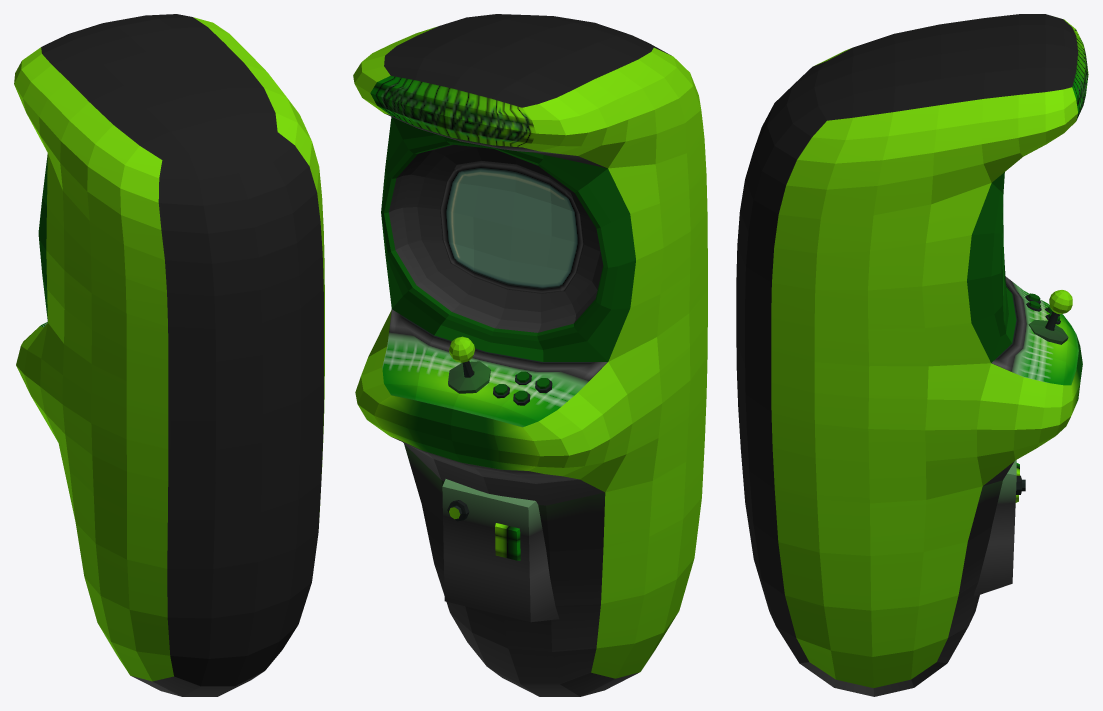
File: Arcaders_03.fbx
3 renders of one model, left to right at view 1: azimuth 30°, elevation 25°; view 2: azimuth 150°, elevation 25°; view 3: azimuth 270°, elevation 25°, orthographic. The views are drawn at different scales.
Parts seen in each view (by area): view 1: Arcade; view 2: Arcade, CoinAndSistemBox, Cylinder.004, InsertCoin; view 3: Arcade, CoinAndSistemBox, Cylinder.004.
Part boxes in pixels (left/top/right/bottom): Arcade: left=14, top=14, right=324, bottom=696; Arcade: left=353, top=14, right=707, bottom=696; CoinAndSistemBox: left=442, top=479, right=559, bottom=622; Cylinder.004: left=448, top=361, right=490, bottom=393; InsertCoin: left=495, top=523, right=520, bottom=560; Arcade: left=736, top=14, right=1088, bottom=696; CoinAndSistemBox: left=974, top=460, right=1016, bottom=596; Cylinder.004: left=1028, top=320, right=1068, bottom=344.
Bounding box in the file's own units: 216 × 560 × 278.
